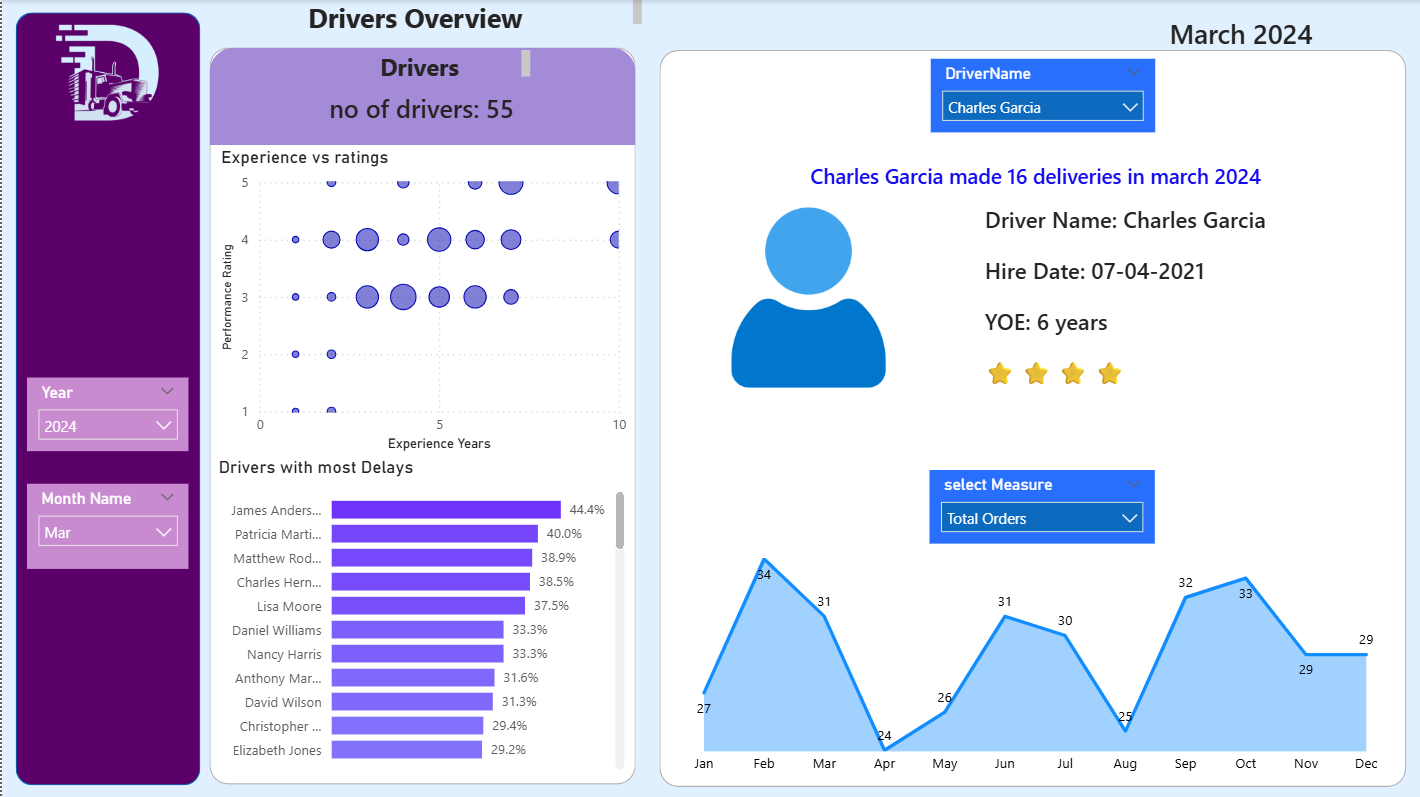

The page's visual inventory and layout, read from the dashboard file:
{"tool":"powerbi","page":{"name":"Drivers Overview","canvas":[1280,720],"ordinal":1},"visuals":[{"type":"shape","box":[187.2,42.7,384.4,664.5],"z":0},{"type":"shape","box":[187.2,42.7,384.4,87.9],"z":1000},{"type":"shape","box":[592.9,45.2,673.3,664.5],"z":2000},{"type":"textbox","box":[285.1,45.2,190.9,33.9],"z":3000},{"type":"shape","box":[12.8,11.4,166.4,696.9],"z":4000},{"type":"textbox","box":[177.5,0,399.6,33.2],"z":5000},{"type":"slicer","fields":{"Values":["Date Table.Year"]},"box":[23.1,340.6,145.7,66.4],"z":6000},{"type":"slicer","fields":{"Values":["Date Table.Month Name"]},"box":[23.1,435.8,145.7,76.5],"z":7000},{"type":"image","box":[0,12.2,192,113.7],"z":8000},{"type":"cardVisual","fields":{"Data":["Date Table.Selected Month-Year"]},"box":[986.5,0,262.7,58],"z":9000},{"type":"slicer","fields":{"Values":["Drivers.DriverName"]},"box":[837.8,52.8,202.2,66.6],"z":10000},{"type":"cardVisual","fields":{"Data":["Drivers.No of Drivers"]},"box":[266.3,57.8,229.9,77.9],"z":11000},{"type":"scatterChart","title":"Experience vs ratings","fields":{"X":["Drivers.Experience Years"],"Y":["Drivers.Performance Rating"],"Size":["Sum(Drivers.Experience Years)1"]},"box":[192.2,133.2,375.6,278.9],"z":12000},{"type":"barChart","title":"Drivers with most Delays","fields":{"Category":["Orders.Driver Name"],"Y":["Orders.Delayed Delivery %"]},"box":[190.7,412.4,375.9,286.5],"z":13000},{"type":"cardVisual","fields":{"Data":["Drivers.Driver Deliveries Text"]},"box":[651.9,126.9,561.5,60.3],"z":13001},{"type":"cardVisual","fields":{"Data":["Orders.Driver Name Text","Orders.Hire Date Text","Orders.YOE Text","Orders.Driver Rating Text"]},"box":[861.3,160.3,404.7,213.8],"z":13002},{"type":"image","box":[592.9,187.2,268.8,162],"z":13003},{"type":"areaChart","fields":{"Category":["Date Table.Month Name"],"Y":["Orders.Total Orders"]},"box":[606,490.5,650.7,216.4],"z":13004},{"type":"slicer","fields":{"Values":["select Measure.select Measure"]},"box":[836.4,424.3,203,66],"z":13005}]}

Visuals, with their boxes in screenshot pixels (x1, y1, x2, y2), scaled from the page's 1280x720 canvas onto the 1420x797 screenshot:
shape: 208:47:634:783
shape: 208:47:634:145
shape: 658:50:1405:786
textbox: 316:50:528:88
shape: 14:13:199:784
textbox: 197:0:640:37
slicer - Date Table.Year: 26:377:187:451
slicer - Date Table.Month Name: 26:482:187:567
image: 0:14:213:139
cardVisual - Date Table.Selected Month-Year: 1094:0:1386:64
slicer - Drivers.DriverName: 929:58:1154:132
cardVisual - Drivers.No of Drivers: 295:64:550:150
"Experience vs ratings" scatterChart: 213:147:630:456
"Drivers with most Delays" barChart: 212:457:629:774
cardVisual - Drivers.Driver Deliveries Text: 723:140:1346:207
cardVisual - Orders.Driver Name Text x Orders.Hire Date Text: 956:177:1404:414
image: 658:207:956:387
areaChart - Date Table.Month Name x Orders.Total Orders: 672:543:1394:782
slicer - select Measure.select Measure: 928:470:1153:543
